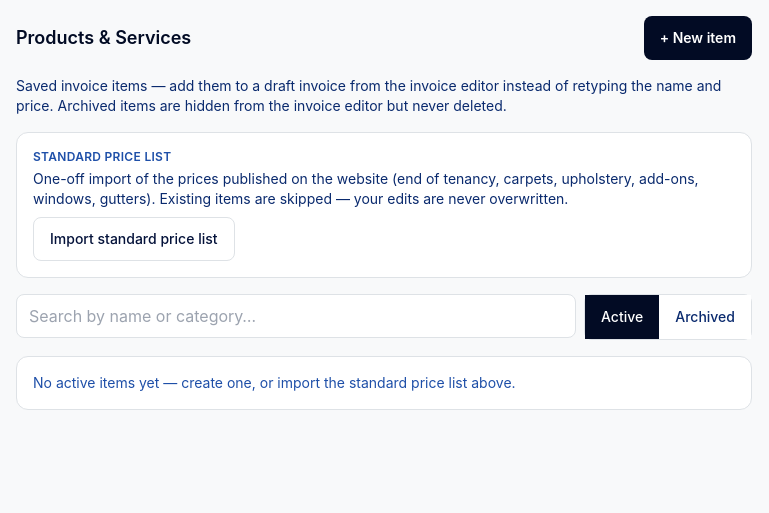
Scenario: CatalogueListPage request recovery › ignores late search errors after a newer search succeeded
In the search field: (296,316) [16,294,576,338], type "carpet"
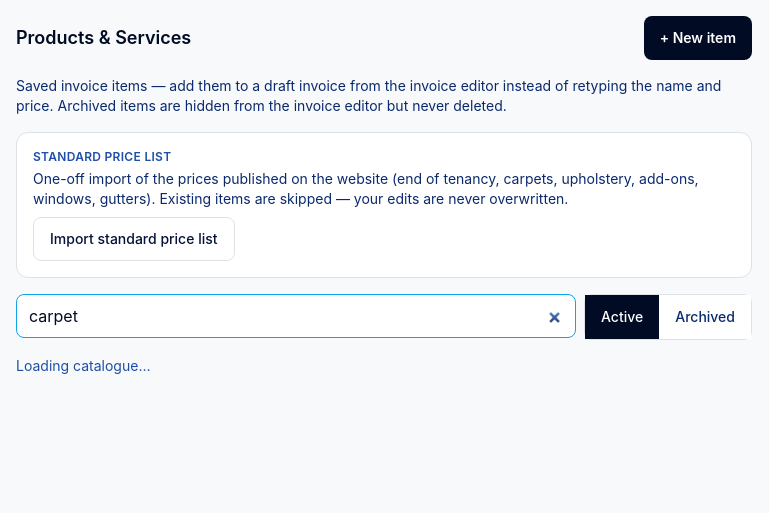
Replace the text in the search field with "sofa": (296,316) [16,294,576,338]
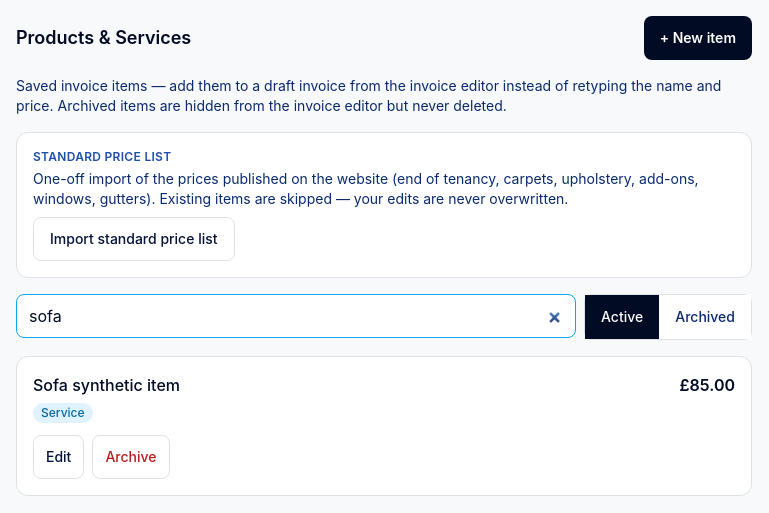
Expected: the text "Sofa synthetic item" is shown, [33,373,180,397]
